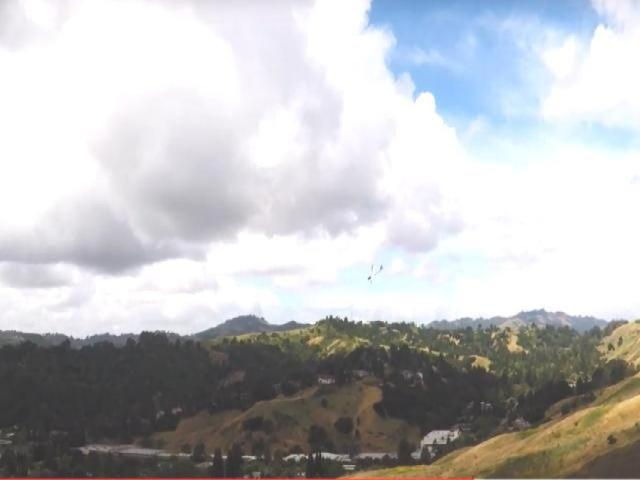iha: (364, 266, 384, 286)
